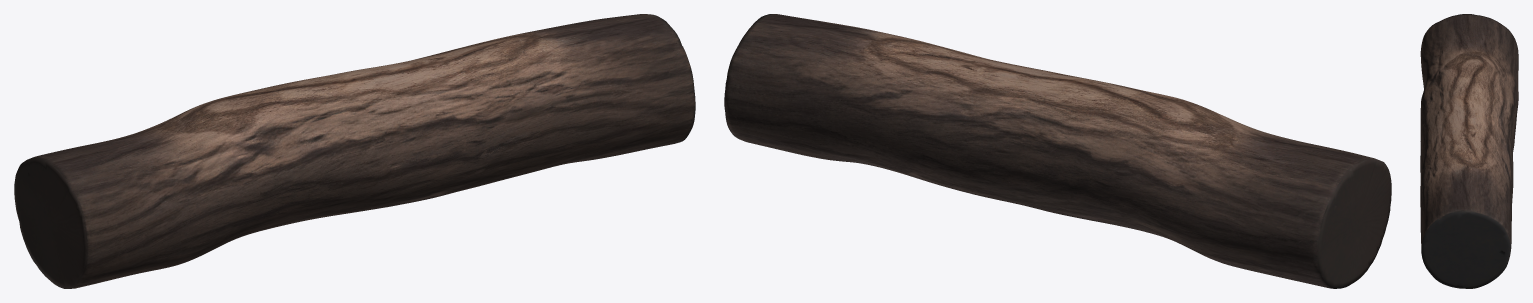
Rendered from Meshy_AI_Tronco3d_0421082420_texture.glb.
3 renders of one model, left to right at view 1: azimuth 30°, elevation 25°; view 2: azimuth 150°, elevation 25°; view 3: azimuth 270°, elevation 25°, orthographic. The views are drawn at different scales.
Bounding box in the file's own units: 2 × 0.4257 × 0.4236.
1 material, 1 textured.
